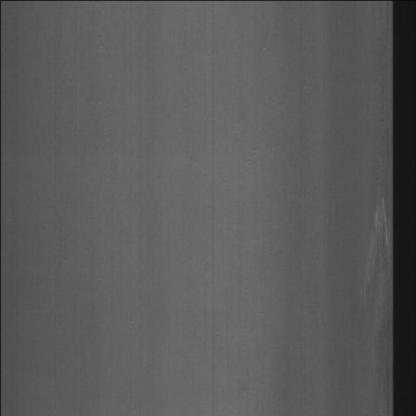silk_spot: (352, 188, 388, 298)
